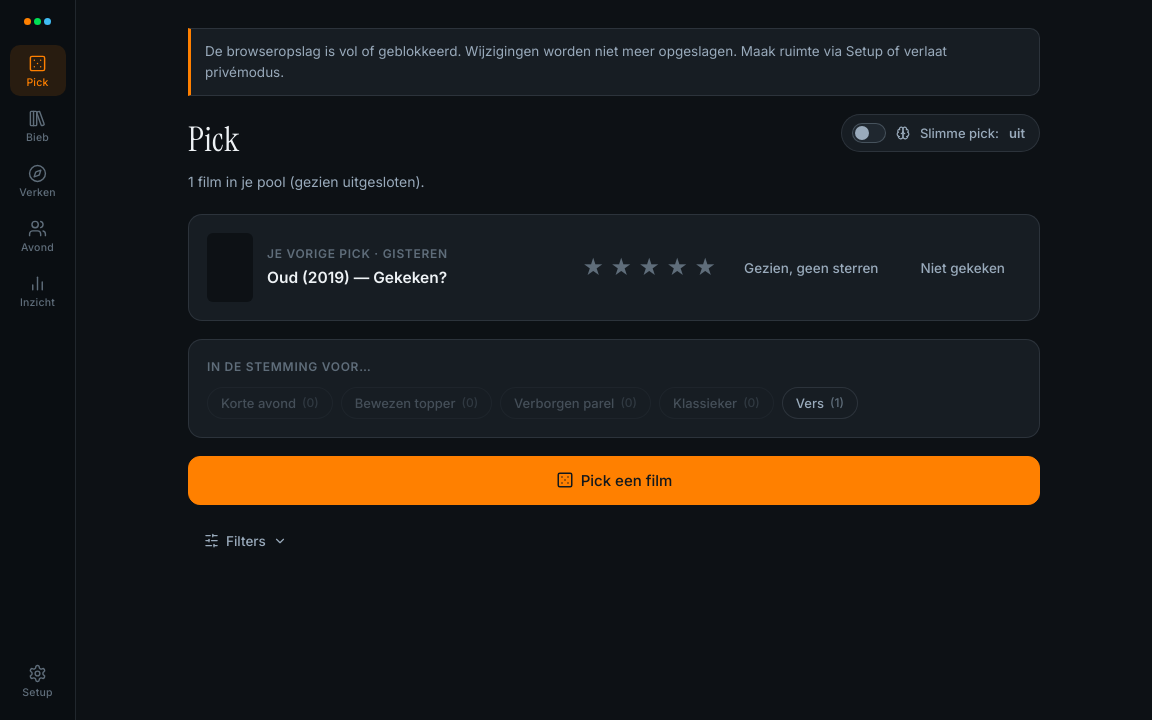
V2 smoke › opvolging: "Niet gekeken" ruimt op zonder rating, en verse picks vragen niks
Expected: the text "Oud (2019) — Gekeken?" is shown, [267, 268, 447, 287]
Step 1. Click the button "Niet gekeken" → (963, 268), box [904, 250, 1021, 286]
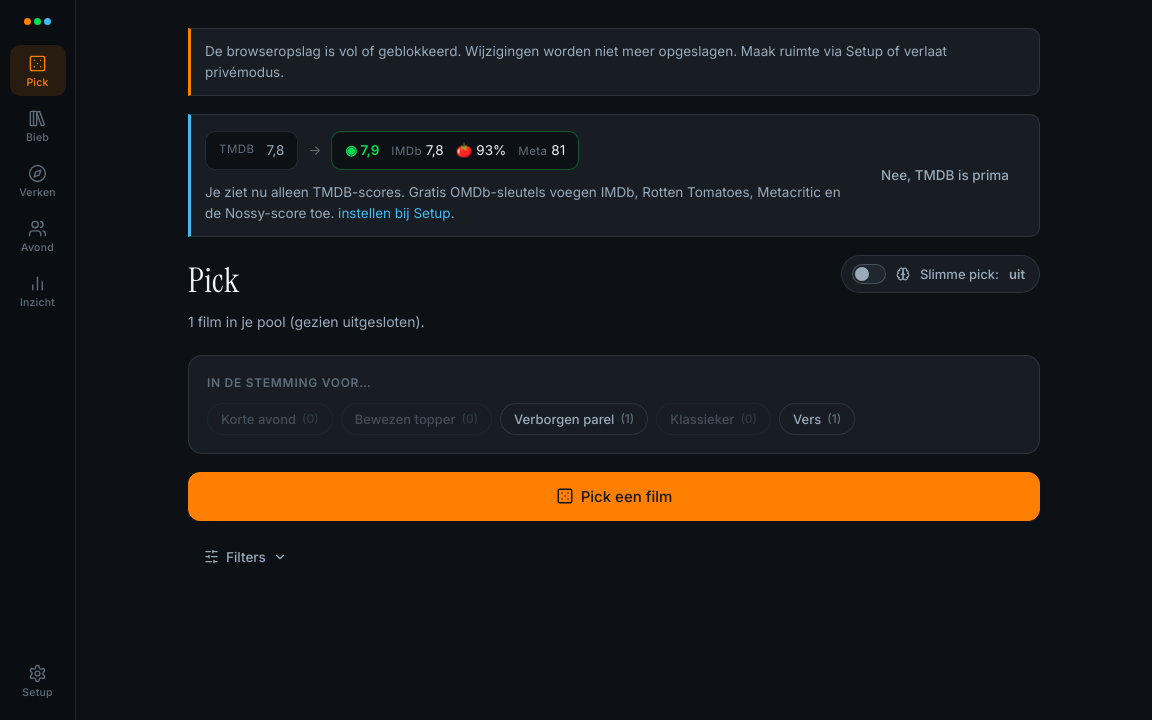
Now the text "Gekeken?" is gone
